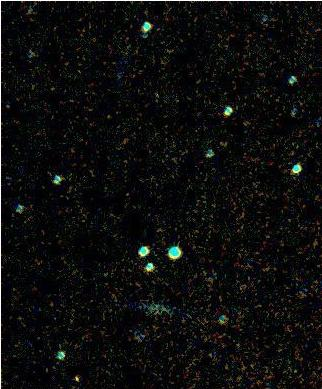star: (64, 363, 94, 389)
